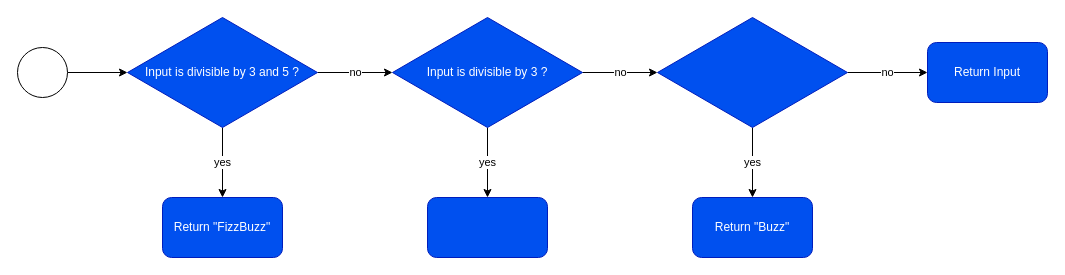
This 1065x275 diagram has some shape labels left out. The shapes that lost their labels are listed below. From the top down, each one's centre as x and y in pixels, then its label:
point 752,72: Input is divisible by 5 ?
point 487,227: Return "Fizz"
